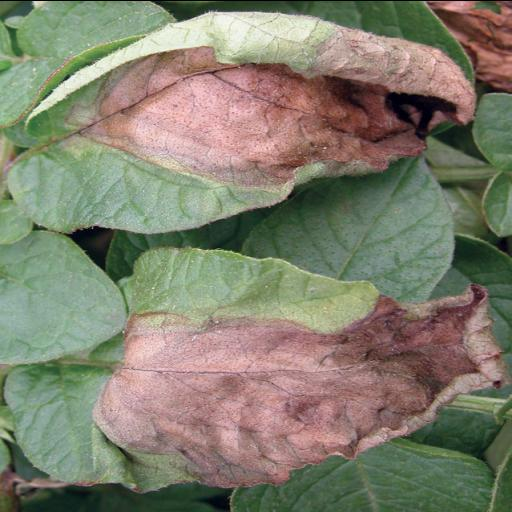Late Blight: (0, 243, 506, 491), (1, 6, 484, 232)
